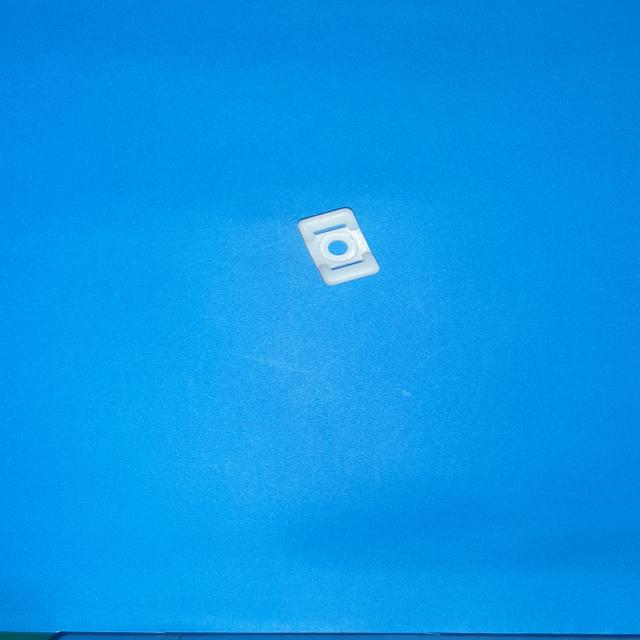true: (298, 208, 380, 285)
true_center: (328, 240, 348, 255)
